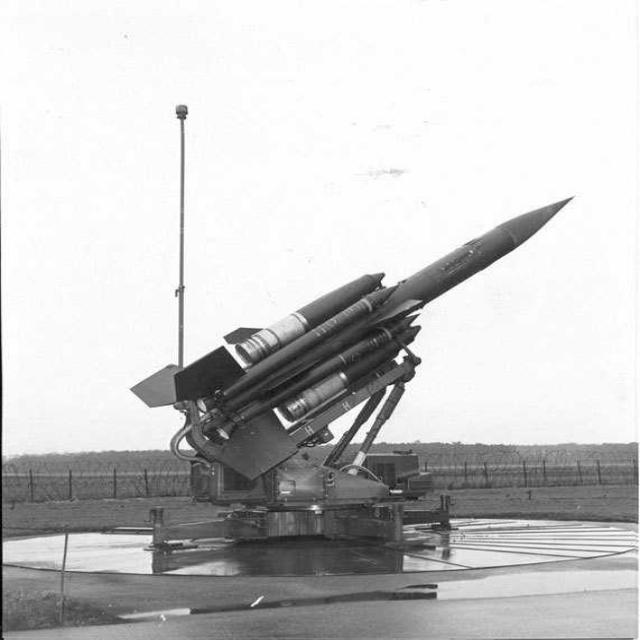missile: (108, 192, 581, 492)
